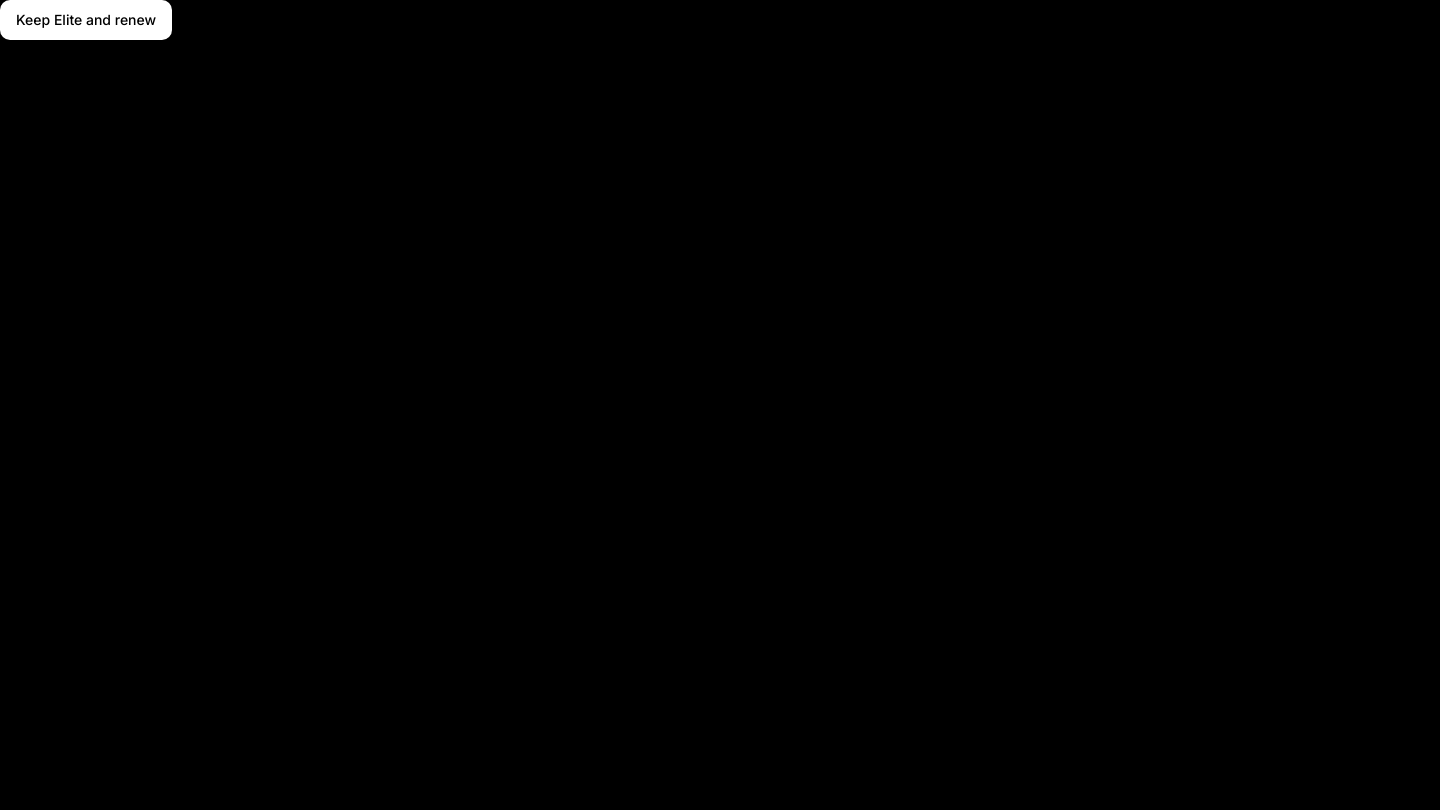
Test: RenewEliteDialog › holds syncing with no Retry when reconciliation rejects after Stripe confirmation
Click the button "Keep Elite and renew".
click(86, 20)  # box [0,0,172,40]
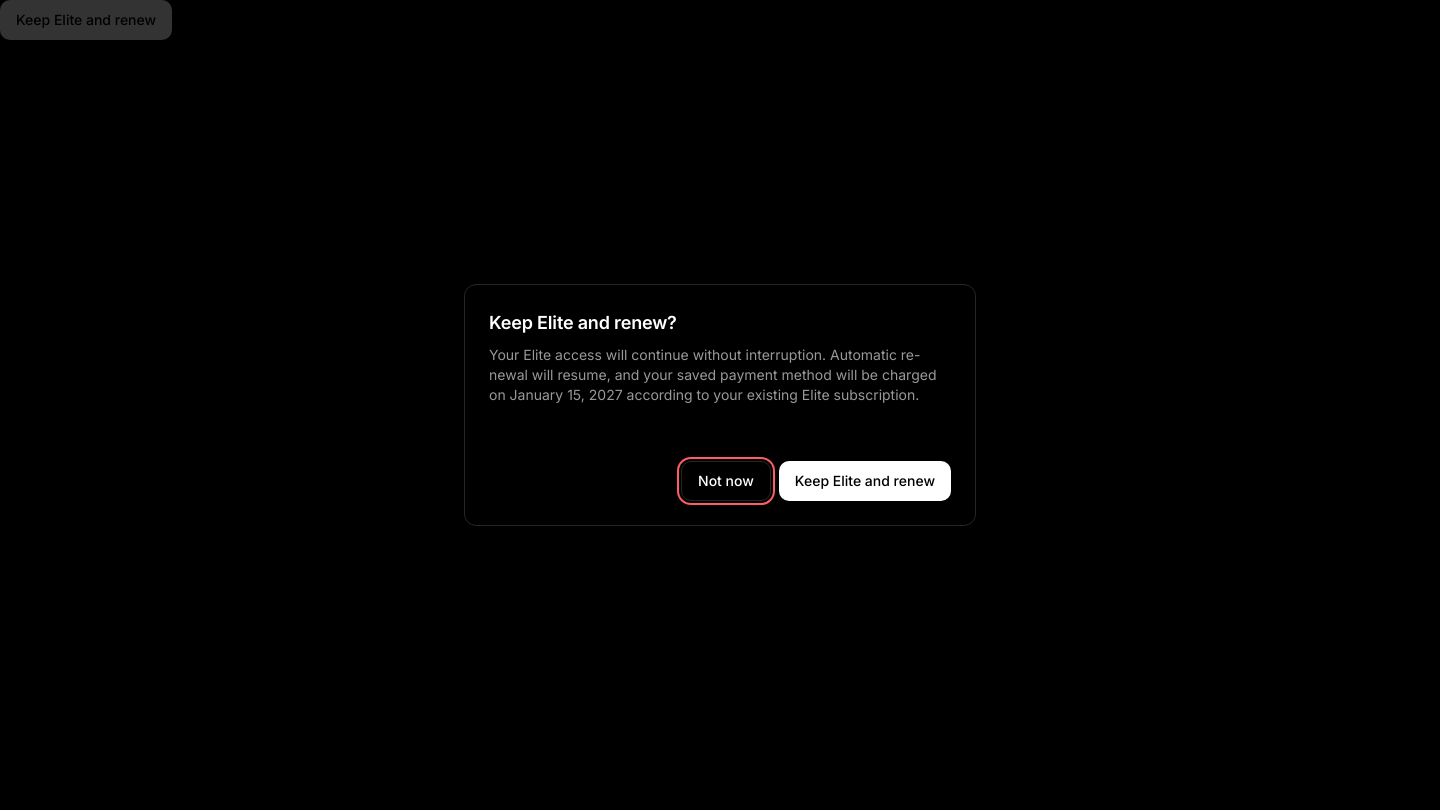
Click the button "Keep Elite and renew".
click(865, 481)  # box [779,461,951,501]
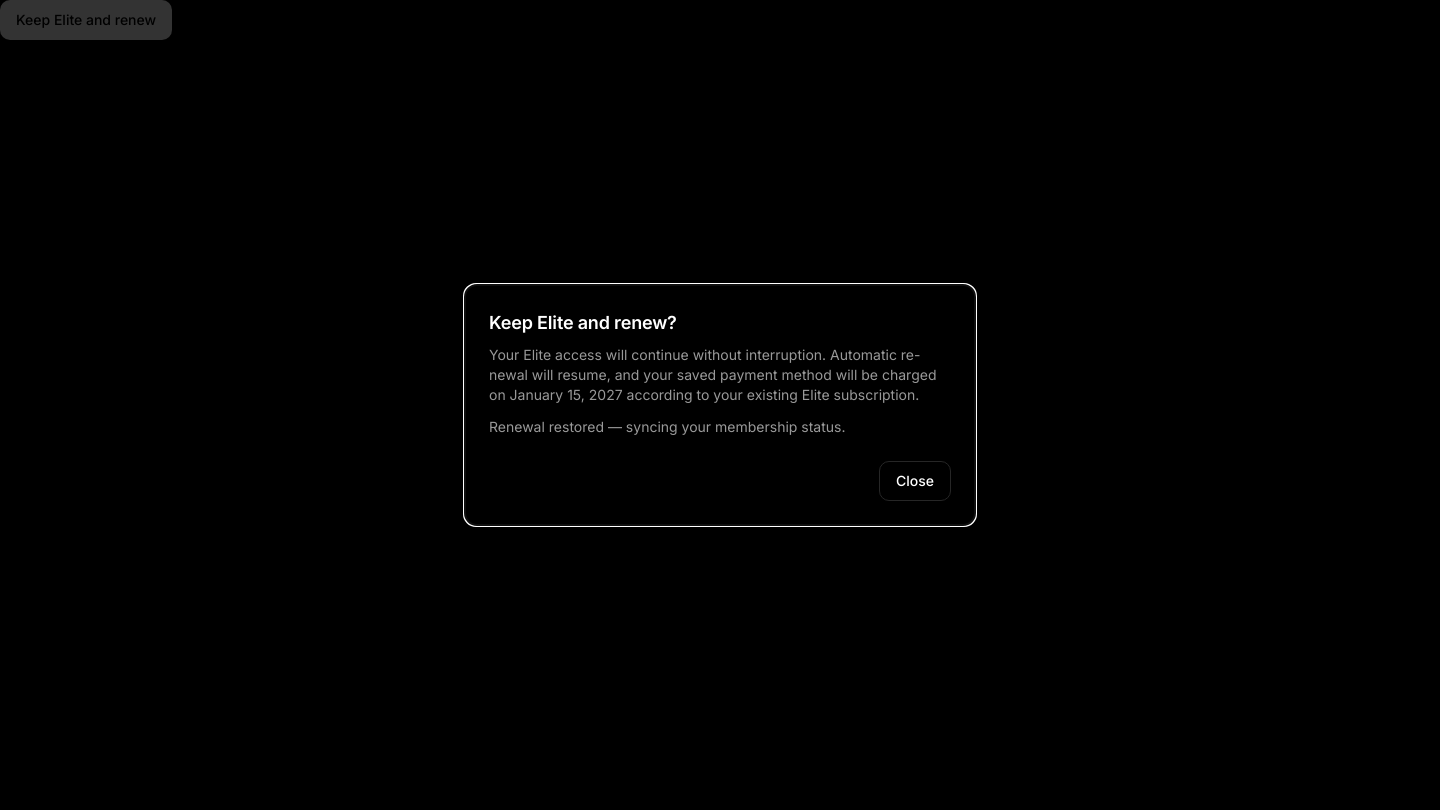
expect the text "Renewal restored — syncing your membership status." is shown: met, box [489,418,846,435]
